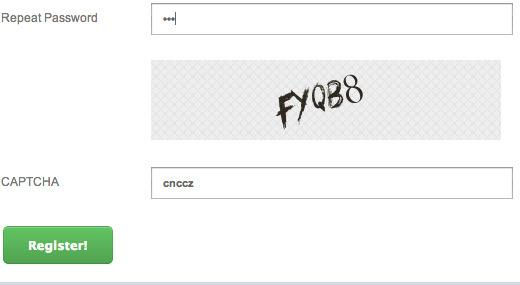button: (1, 225, 114, 264)
field: (148, 2, 516, 37), (148, 166, 514, 200)
